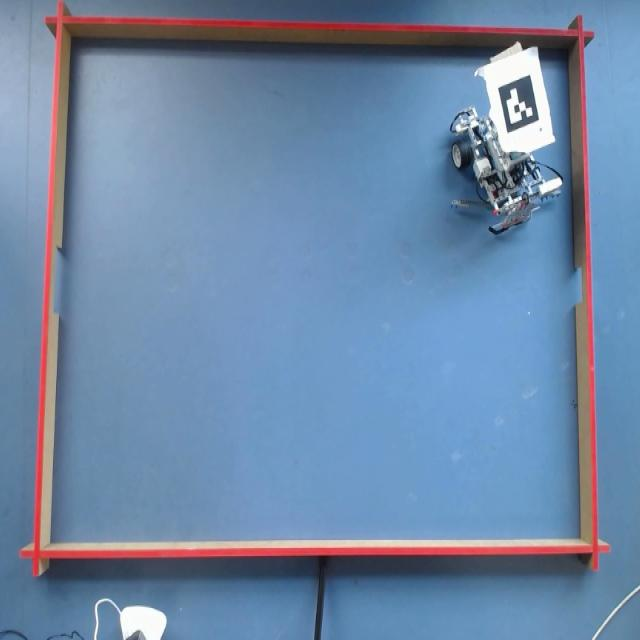ev3: (450, 43, 563, 215)
